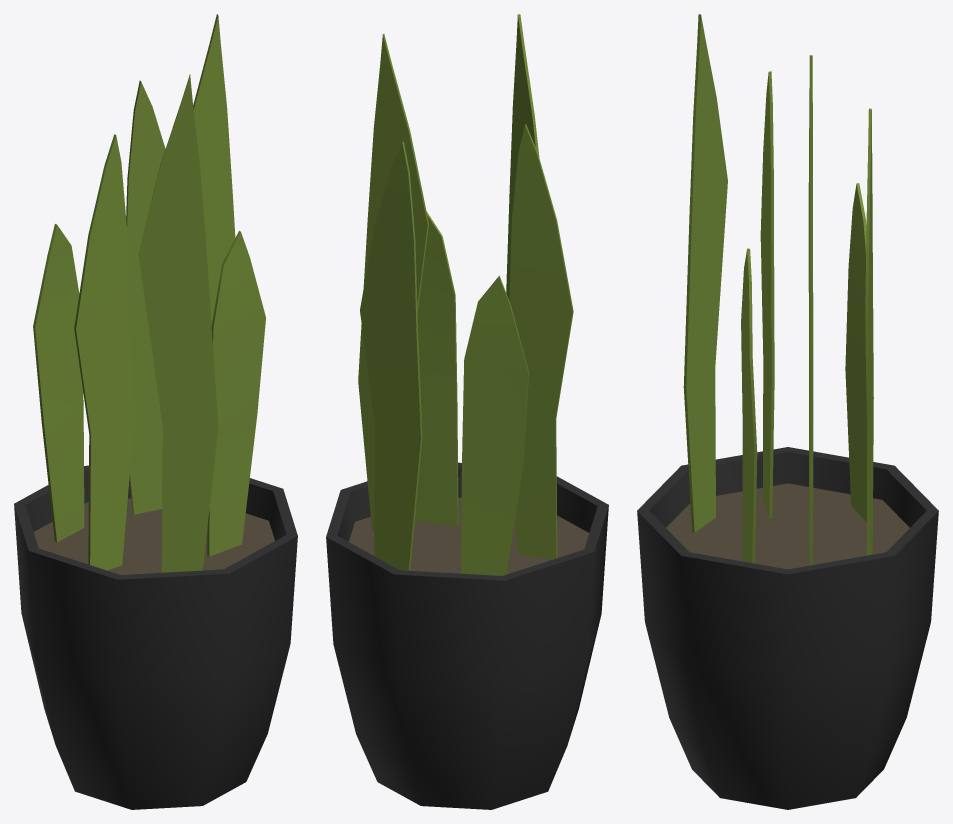
Rendered from Houseplant_4.glb.
3 renders of one model, left to right at view 1: azimuth 30°, elevation 25°; view 2: azimuth 150°, elevation 25°; view 3: azimuth 270°, elevation 25°, orthographic. The views are drawn at different scales.
Parts seen in each view (by area): view 1: Houseplant_4; view 2: Houseplant_4; view 3: Houseplant_4.
Boxes of the visible parts, x1=… form: Houseplant_4: x1=14, y1=14, x2=297, y2=809; Houseplant_4: x1=326, y1=14, x2=608, y2=809; Houseplant_4: x1=637, y1=14, x2=938, y2=809.
Bounding box in the file's own units: 0.1654 × 0.454 × 0.1654.
Materials: 3 (3 with a texture image).
